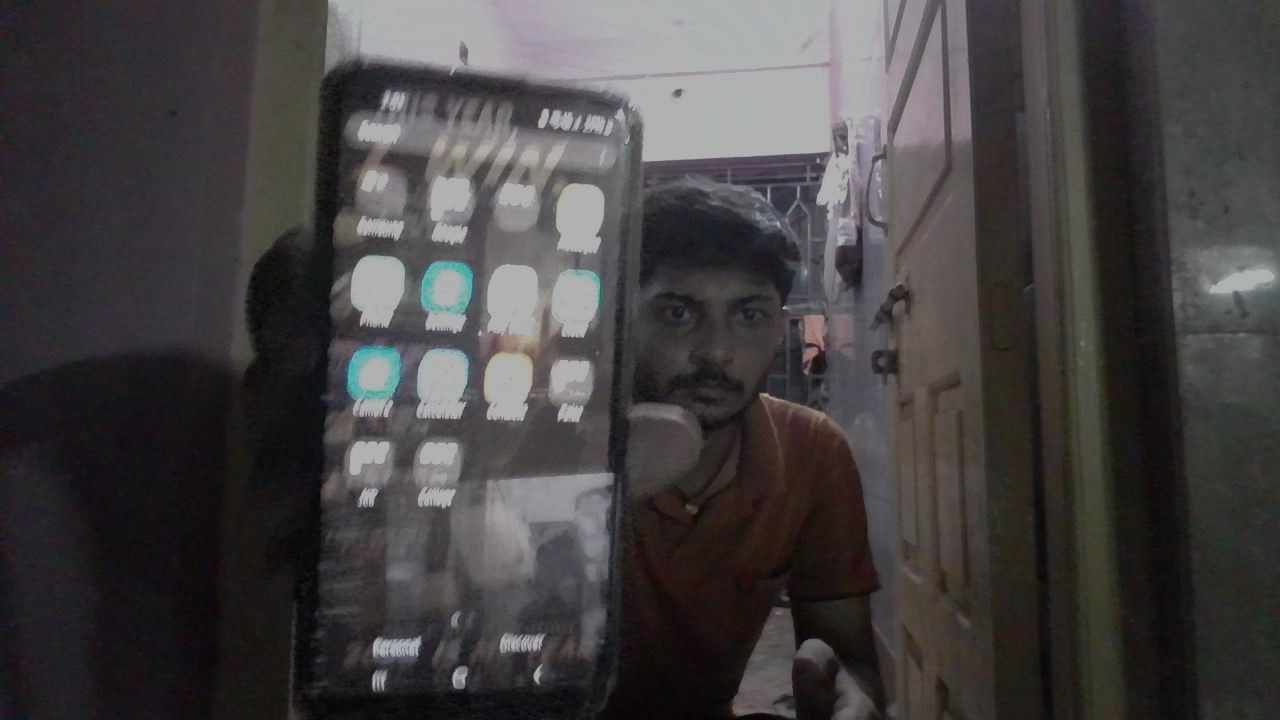red_box: (736, 424, 864, 563)
